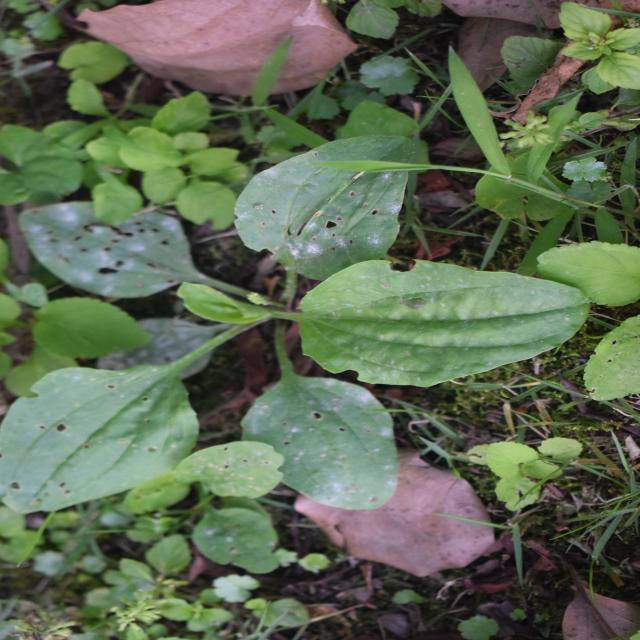plantain: (130, 0, 468, 542)
